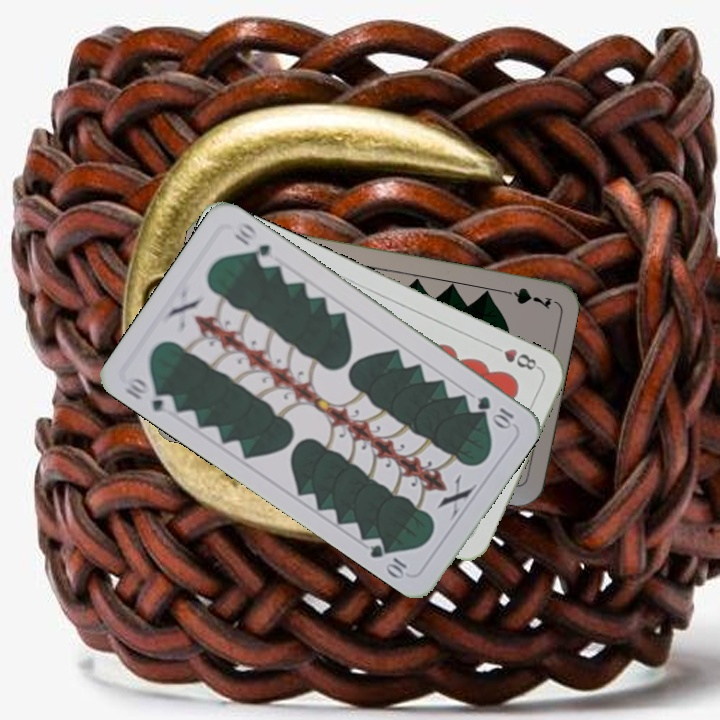G10: (121, 372, 178, 415), (473, 391, 518, 431)
G7: (496, 283, 555, 311)
H8: (487, 341, 543, 373)
